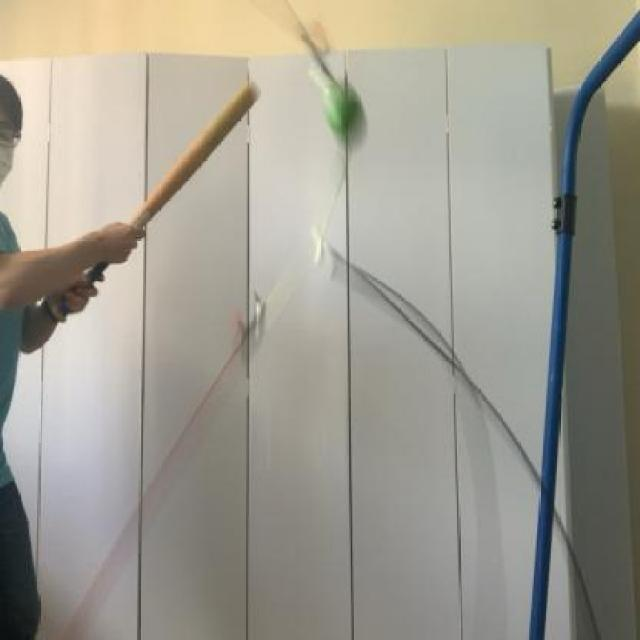baseball: (313, 66, 365, 149)
